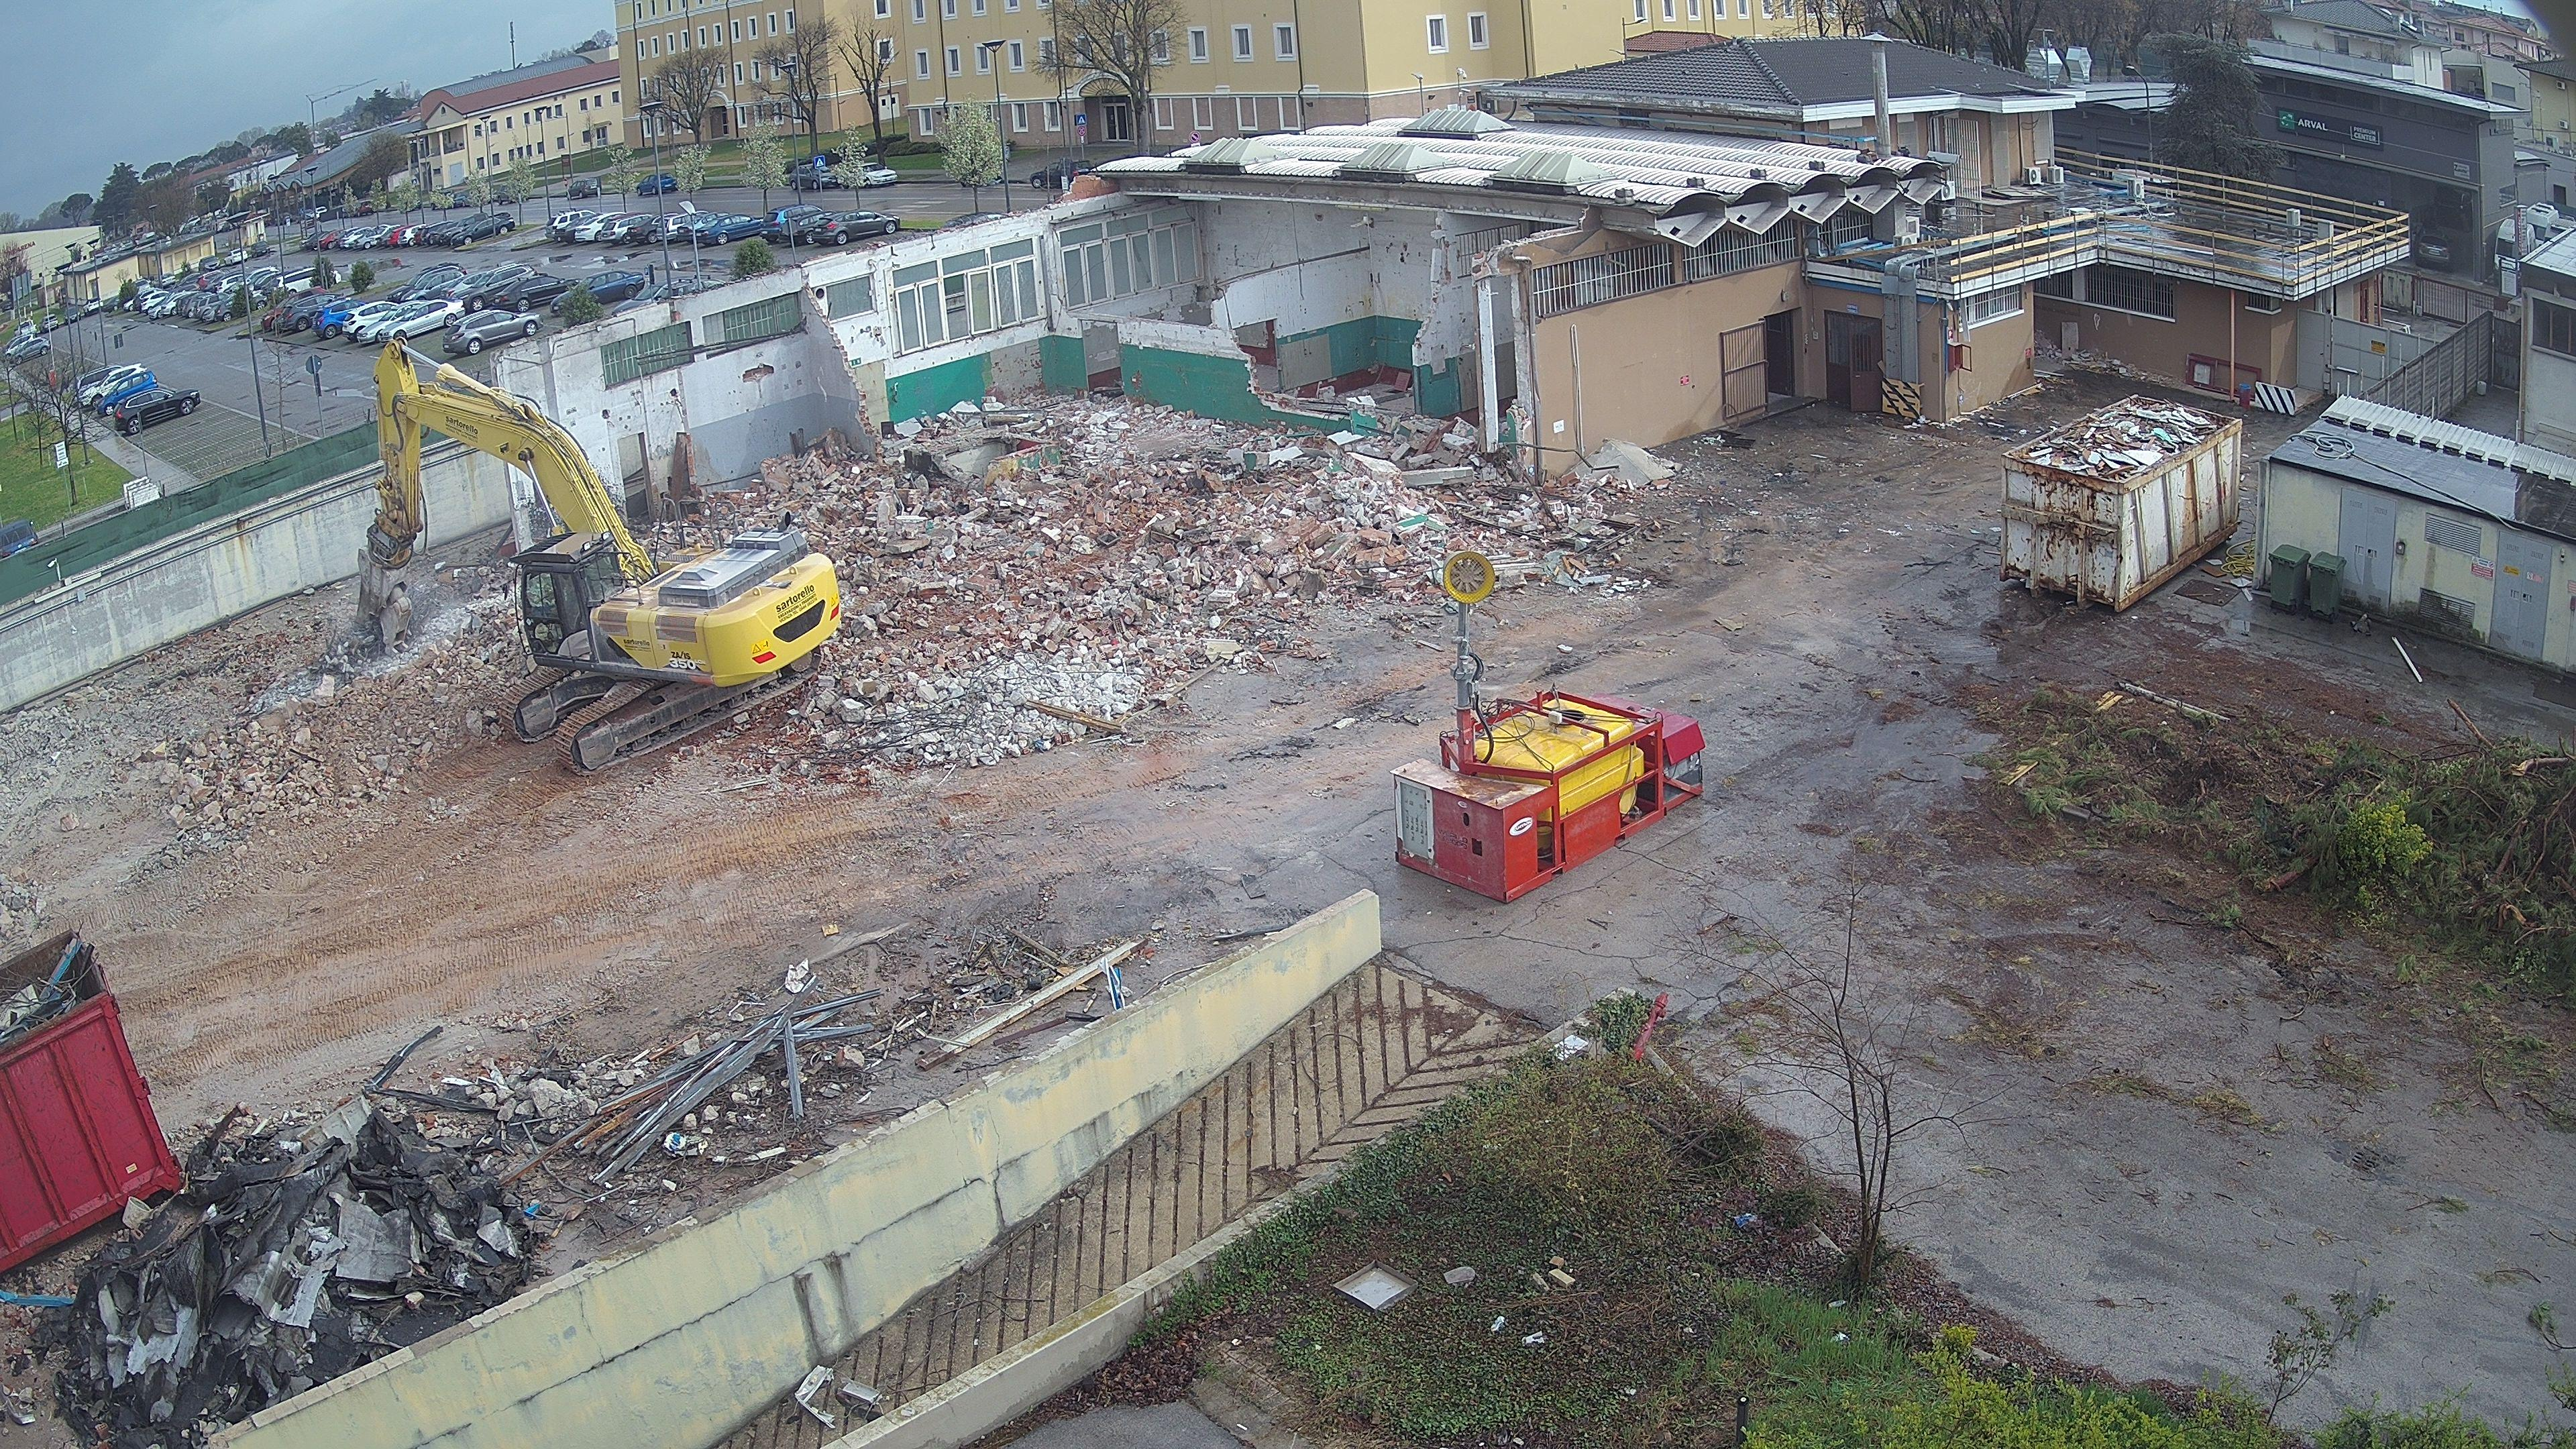Cars: (442, 310, 545, 354), (548, 271, 646, 317), (453, 264, 536, 313), (113, 387, 202, 433), (377, 299, 465, 343), (492, 272, 582, 313), (81, 363, 149, 407), (812, 211, 901, 244), (357, 301, 430, 341), (96, 370, 157, 414), (759, 203, 826, 244), (341, 301, 403, 341), (280, 294, 343, 331), (313, 299, 372, 338), (695, 214, 766, 246), (778, 209, 839, 244), (402, 269, 464, 303), (451, 216, 515, 246), (2415, 228, 2457, 272), (1030, 159, 1090, 188), (656, 211, 709, 242), (600, 214, 653, 244), (575, 212, 626, 242), (789, 165, 840, 191), (9, 336, 50, 364), (635, 172, 676, 196), (564, 179, 598, 198), (223, 248, 248, 267), (198, 255, 221, 272), (39, 313, 58, 333), (83, 297, 103, 317), (62, 306, 81, 324), (251, 241, 271, 258)
excavator: (354, 333, 842, 777)
